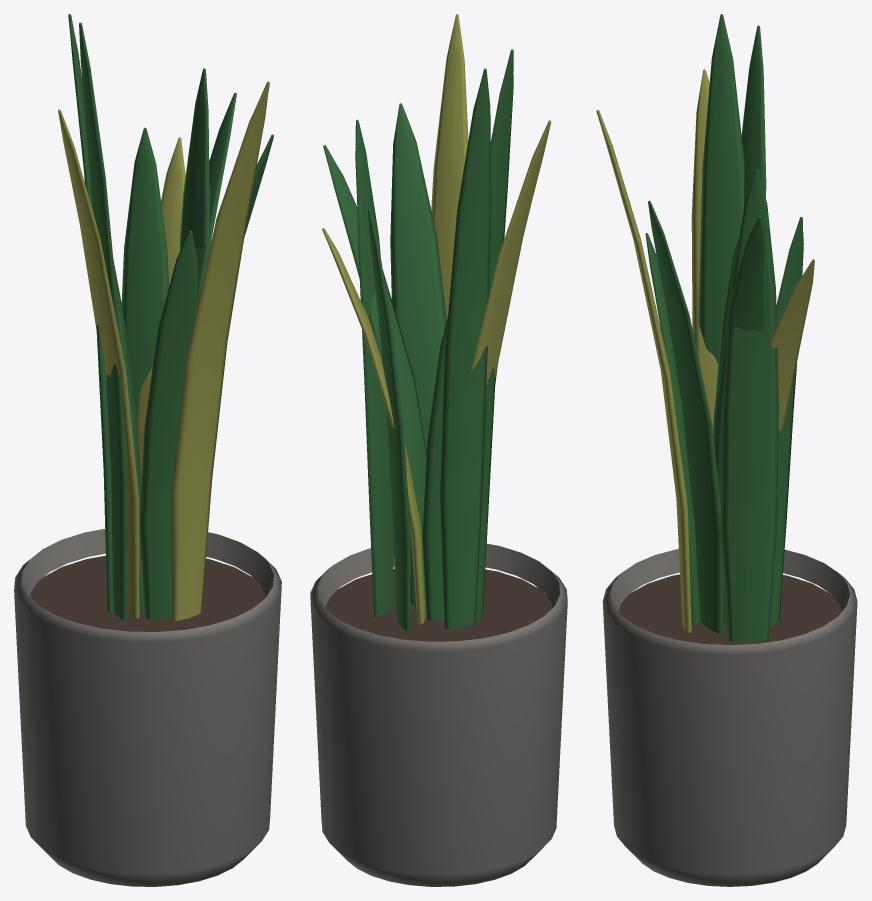
Rendered from chau_cay.glb.
3 renders of one model, left to right at view 1: azimuth 30°, elevation 25°; view 2: azimuth 150°, elevation 25°; view 3: azimuth 270°, elevation 25°, orthographic. The views are drawn at different scales.
Visible parts, largest first — view 1: chau_cay; view 2: chau_cay; view 3: chau_cay.
Part boxes in pixels (left/top/right/bottom): chau_cay: left=14, top=14, right=281, bottom=886; chau_cay: left=310, top=14, right=567, bottom=886; chau_cay: left=596, top=14, right=857, bottom=886.
Bounding box in the file's own units: 0.34 × 1.18 × 0.3484.
